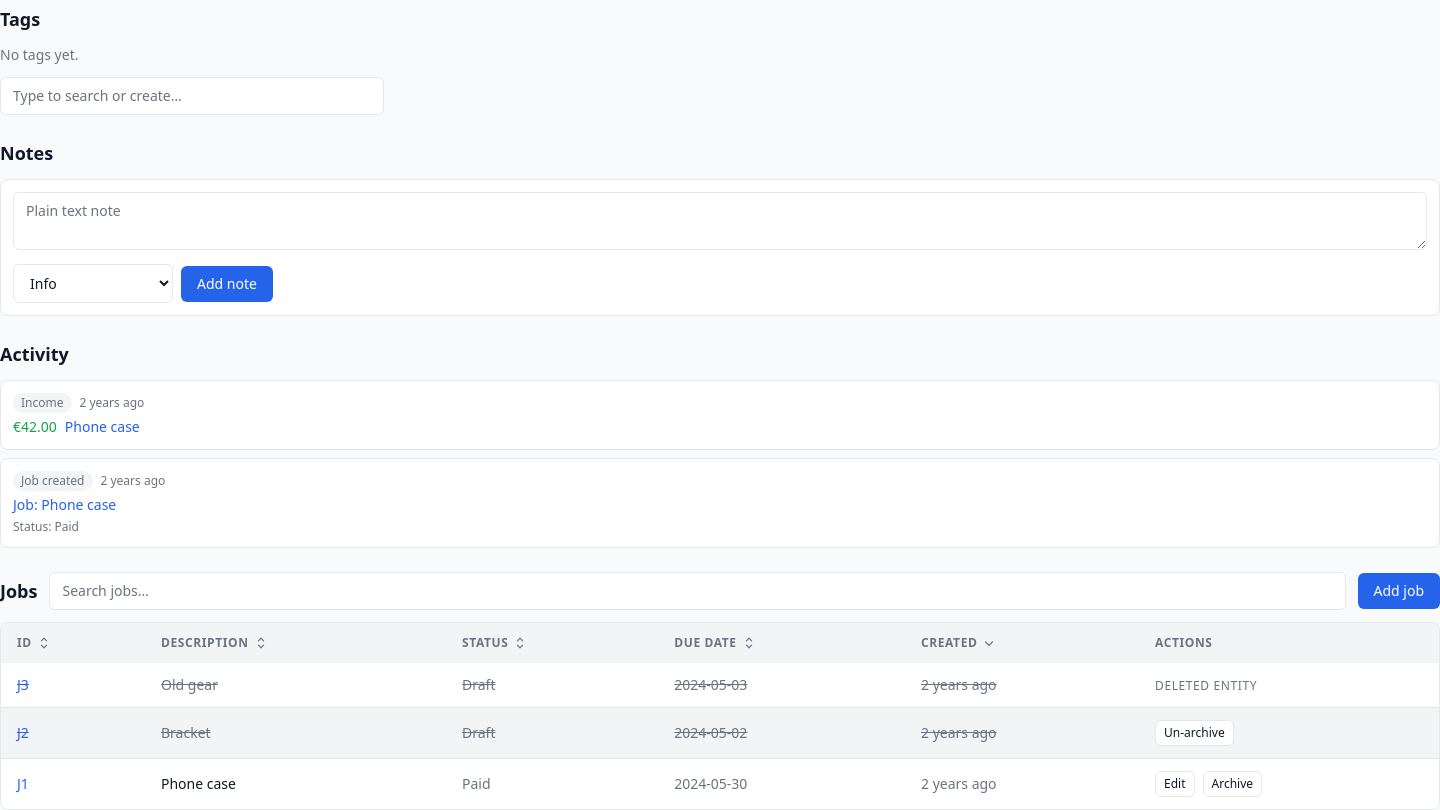
ClientDetailPage › edits a job from its row with the client picker unlocked
(page scrolled)
Click the button with test id "client-job-edit-J1" at (1175, 784), box [1155,771,1194,797]
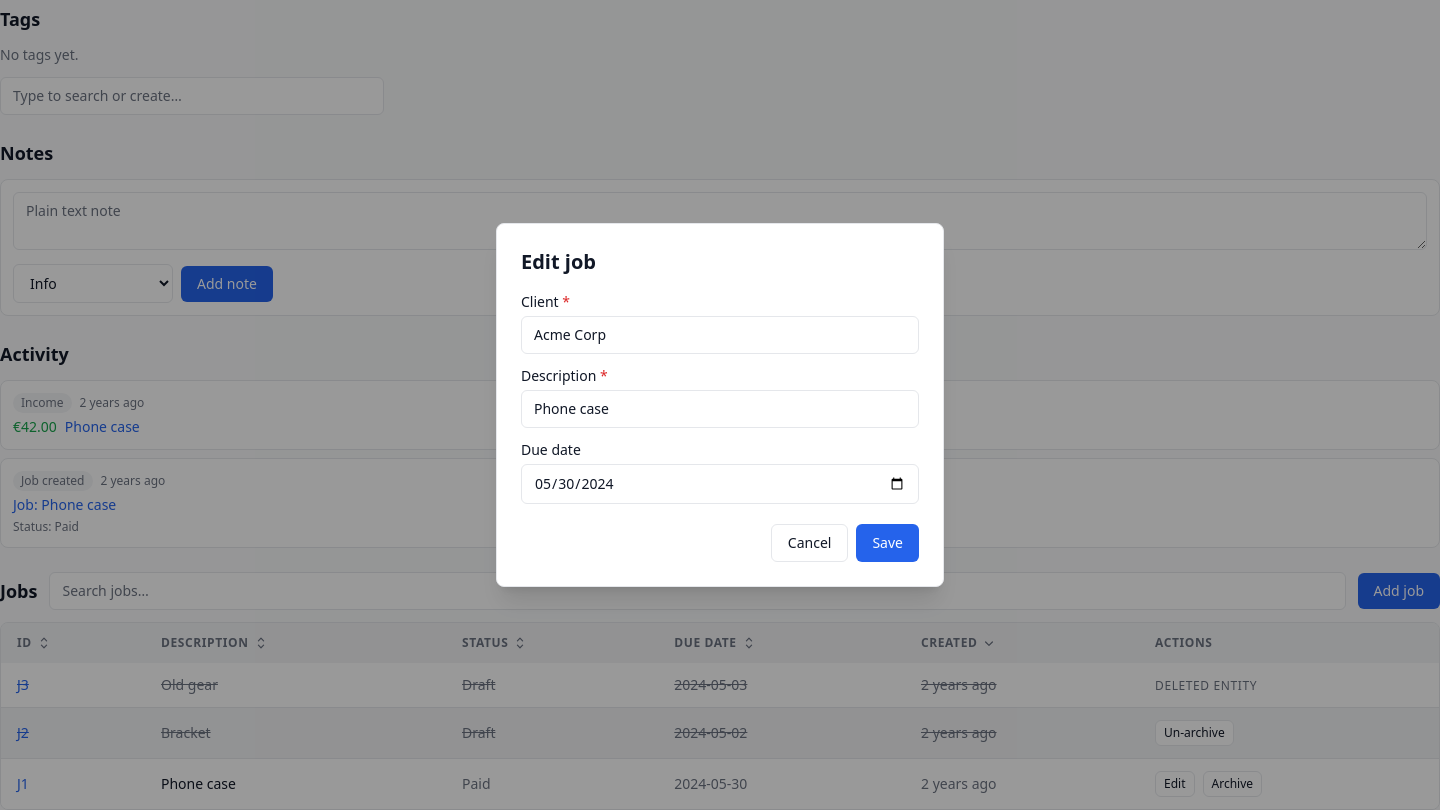
Now the dropdown with placeholder "Search clients…" holds "Acme Corp", box [521,316,919,354]
Replace the text in the field labelled "Description *" with "Phone case v2" at (720, 409), box [521,390,919,428]
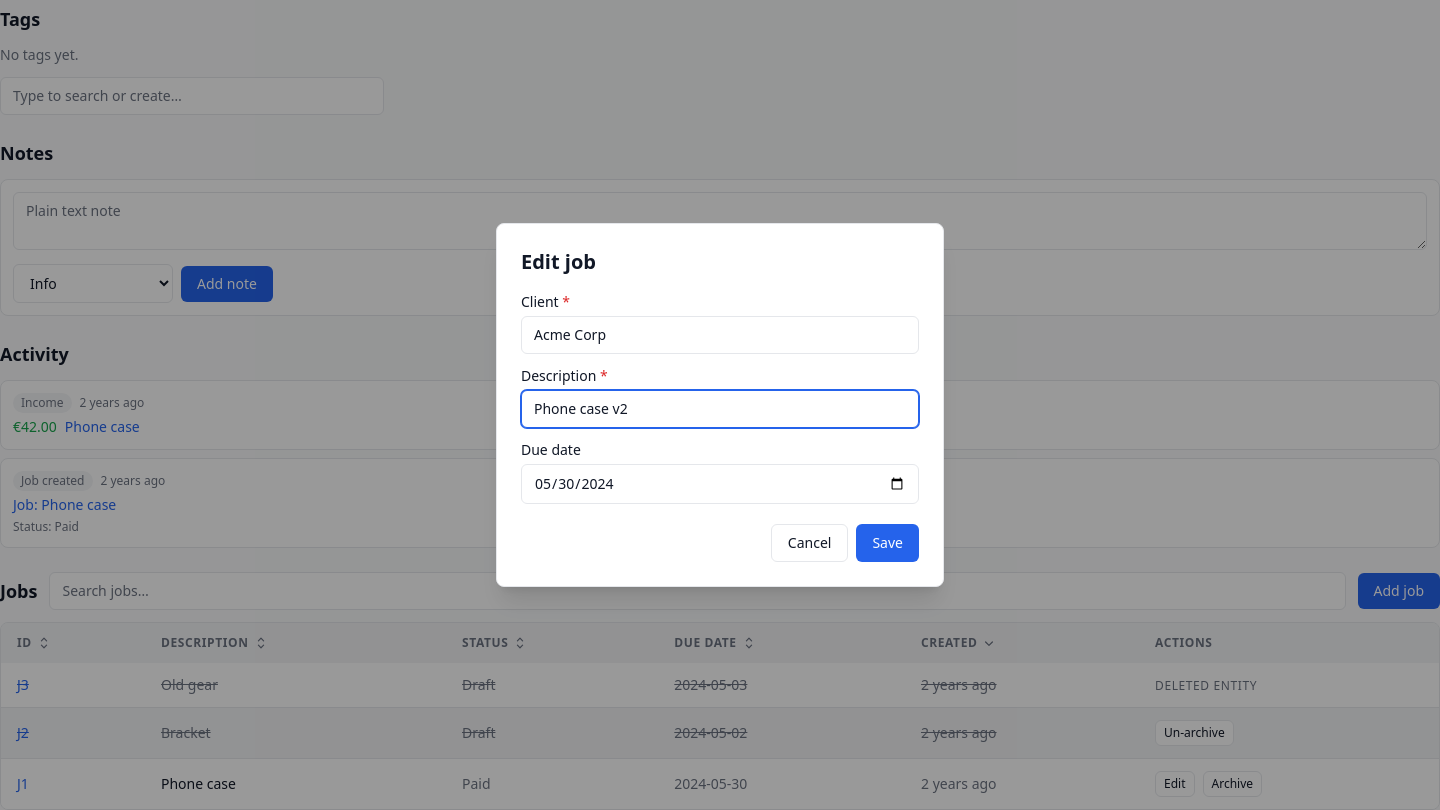
Click the button "Save" at (888, 543), box [856,524,919,562]
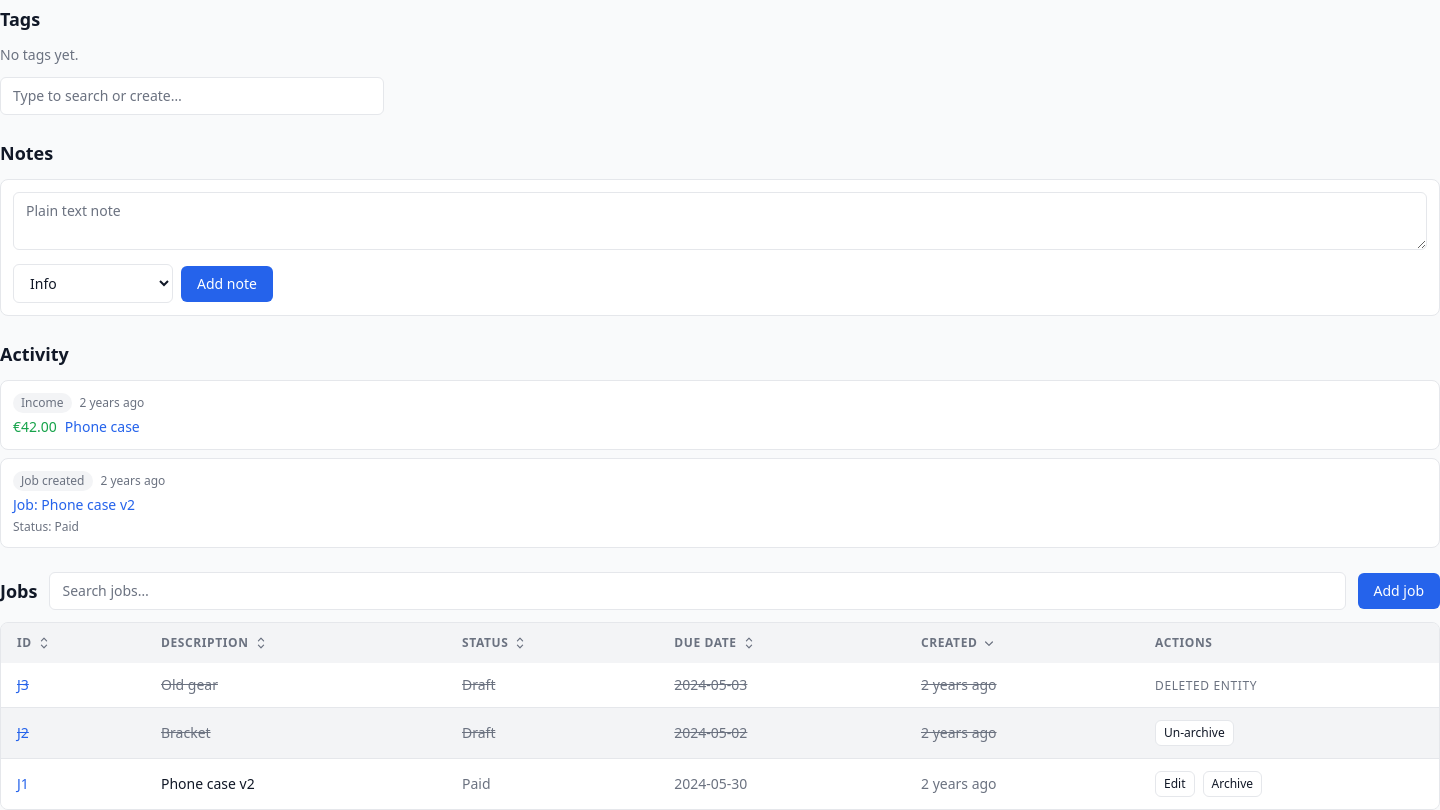
Now the cell "Phone case v2" is shown, box [145,758,446,809]
